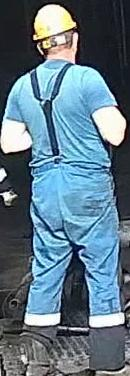helmet: (31, 3, 77, 41)
